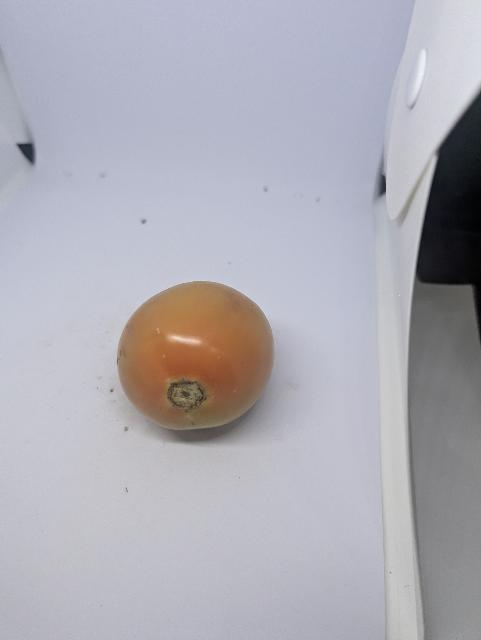turning: (111, 270, 278, 440)
